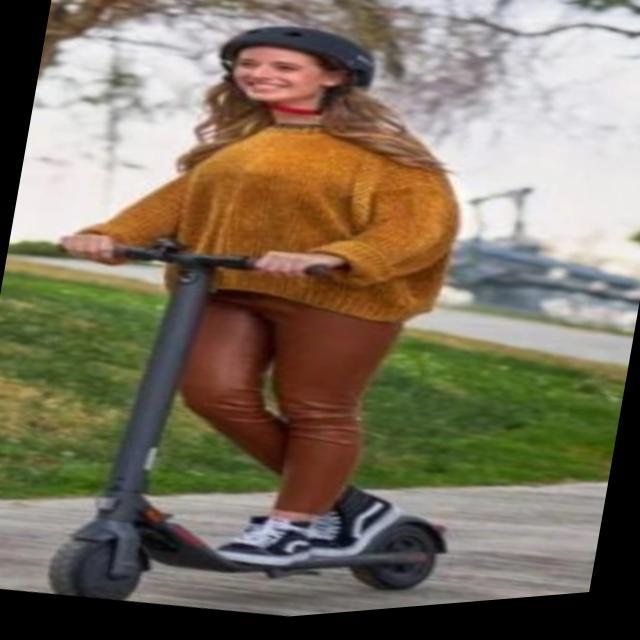Helmet: (213, 16, 380, 132)
